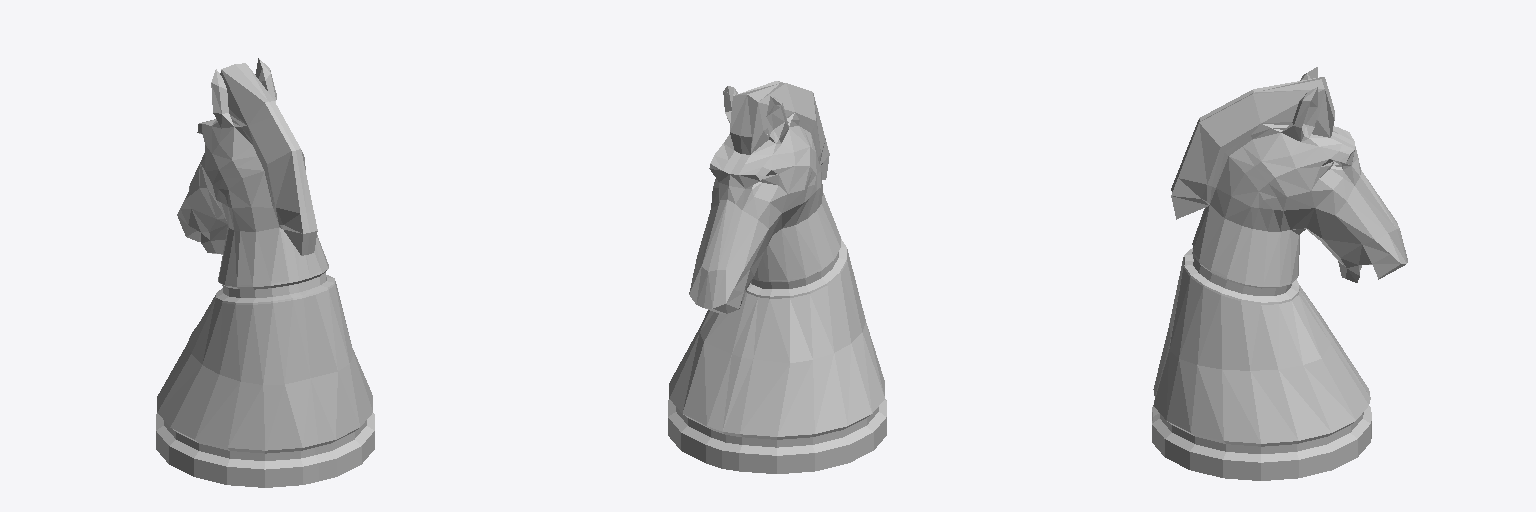
Rendered from knight.obj.
3 views of the same model, side by side, from view 1: azimuth 30°, elevation 25°; view 2: azimuth 150°, elevation 25°; view 3: azimuth 270°, elevation 25° (orthographic).
Parts seen in each view (by area): view 1: Circle; view 2: Circle; view 3: Circle.
Boxes of the visible parts, box(x1,y1,x2,y2) form: Circle: box(156, 58, 374, 487); Circle: box(668, 81, 886, 473); Circle: box(1152, 67, 1407, 480).
Size of the model in its own units: 1.6 by 2.85 by 1.85.